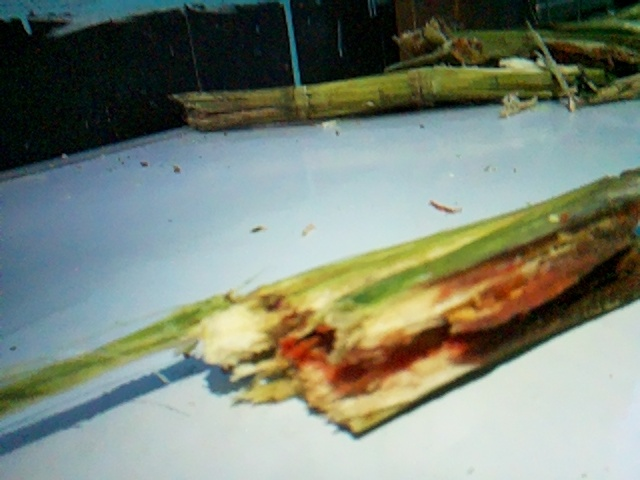Red-Rot: (234, 195, 640, 391)
